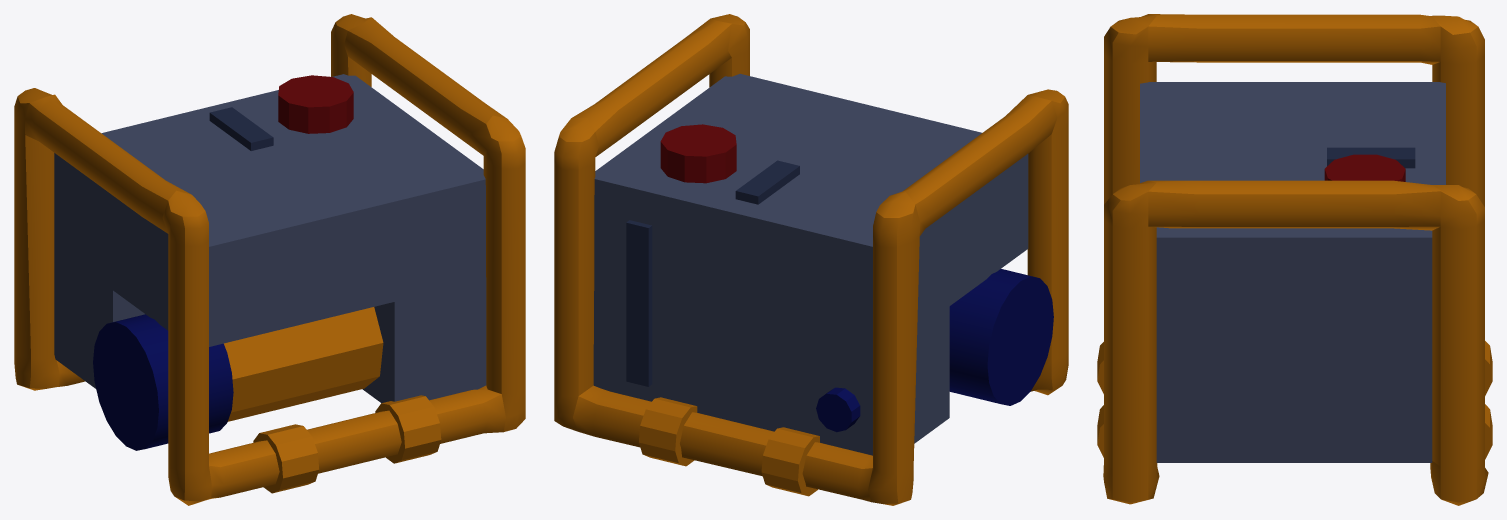
Rendered from COLORgeneratormesh.fbx.
3 views of the same model, side by side, from view 1: azimuth 30°, elevation 25°; view 2: azimuth 150°, elevation 25°; view 3: azimuth 270°, elevation 25° (orthographic). The views are drawn at different scales.
Parts seen in each view (by area): view 1: polySurface4; view 2: polySurface4; view 3: polySurface4.
Part boxes in pixels (x1,y1,x2,y2): polySurface4: (14, 14, 525, 505); polySurface4: (554, 14, 1068, 505); polySurface4: (1097, 14, 1492, 505).
Size of the model in its own units: 1.33 by 1.11 by 1.21.
